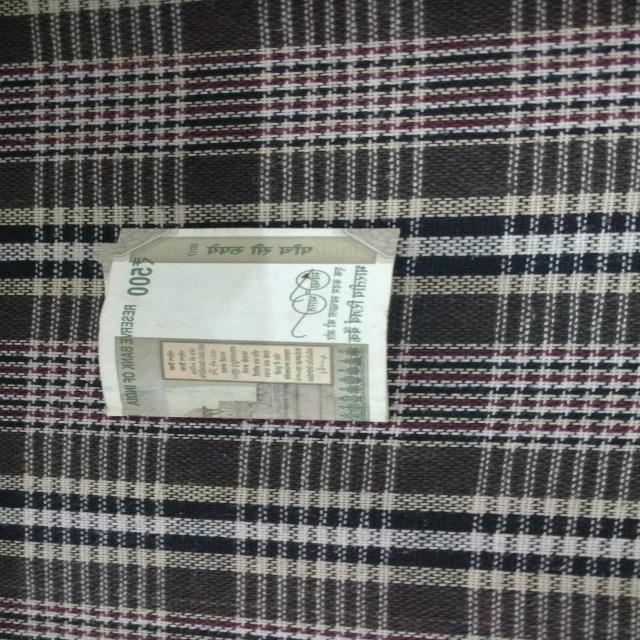Currency: (88, 251, 430, 439)
